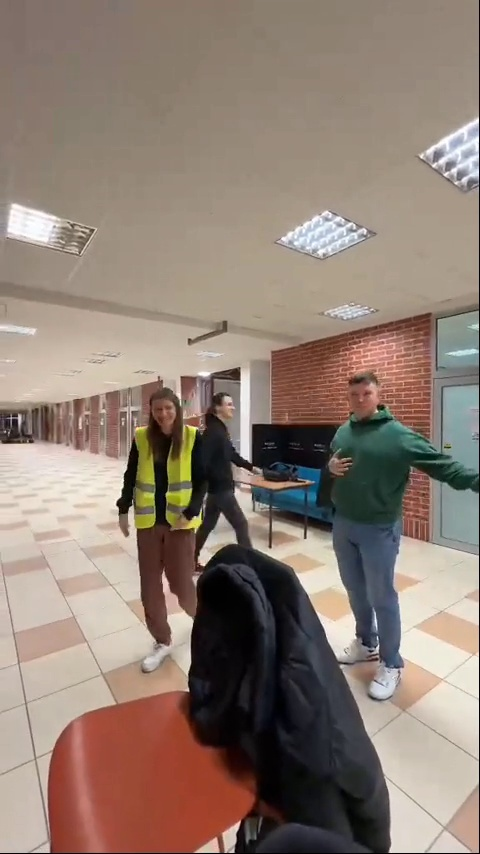no vest: (333, 359, 472, 683), (207, 385, 272, 579)
vest: (111, 389, 208, 678)
